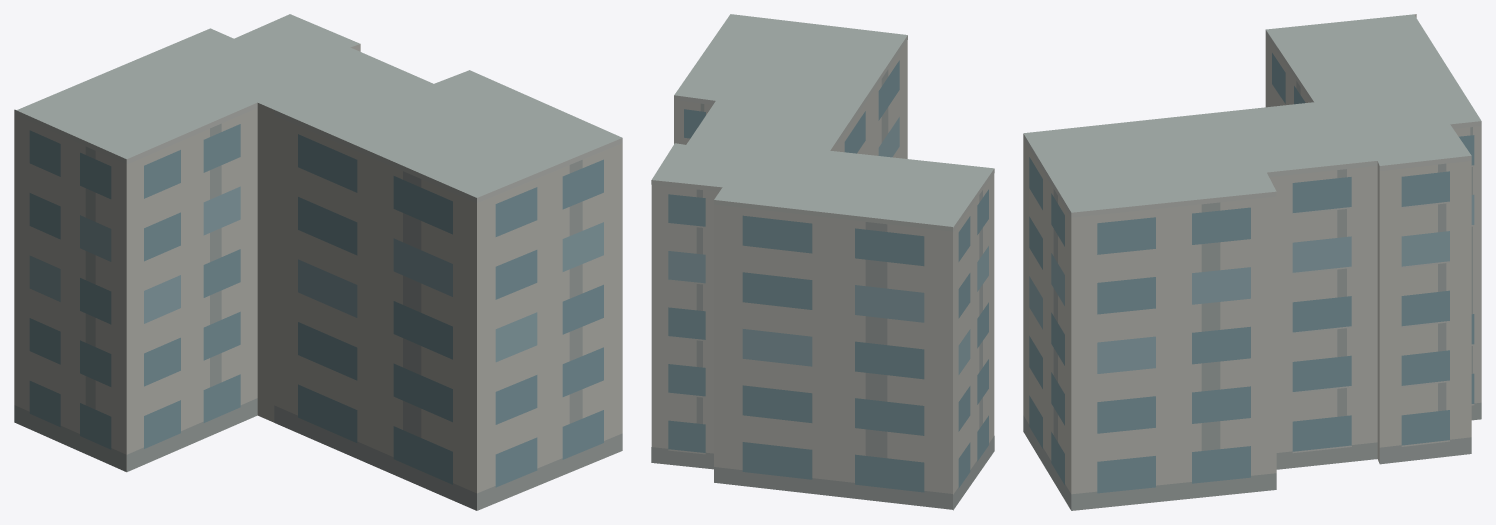
File: survey-upis-32611815.glb
3 renders of one model, left to right at view 1: azimuth 30°, elevation 25°; view 2: azimuth 150°, elevation 25°; view 3: azimuth 270°, elevation 25°, orthographic. The views are drawn at different scales.
Parts seen in each view (by area): view 1: survey-upis-32611815.tmp; view 2: survey-upis-32611815.tmp; view 3: survey-upis-32611815.tmp.
Boxes of the visible parts, x1,y1,x2,y2 form: survey-upis-32611815.tmp: (14, 14, 622, 510); survey-upis-32611815.tmp: (651, 14, 994, 510); survey-upis-32611815.tmp: (1023, 14, 1481, 510).
Size of the model in its own units: 20.66 by 14.45 by 20.14.
